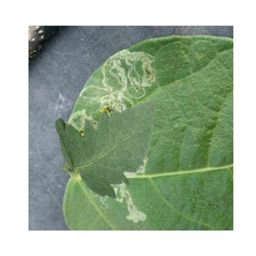liriomyza: (67, 48, 156, 132), (93, 182, 147, 223)
